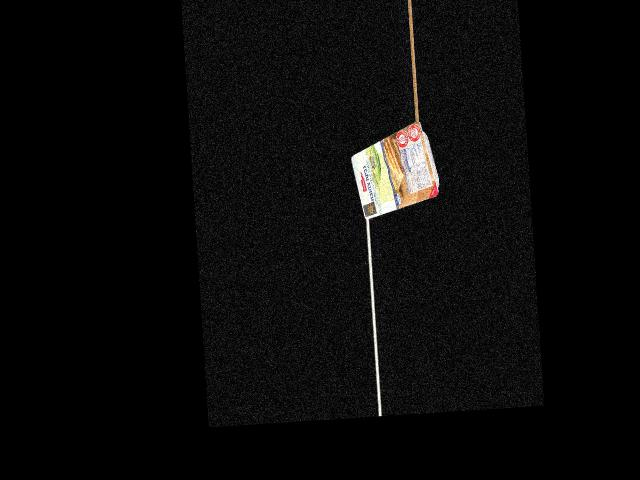cheese: (350, 134, 438, 212)
